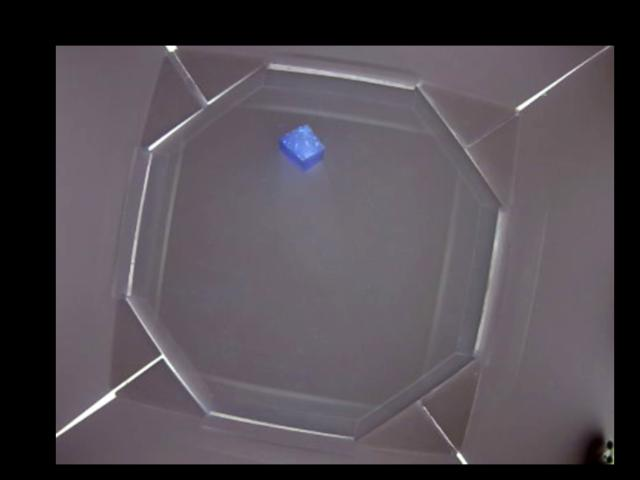Potato: (280, 124, 327, 164)
